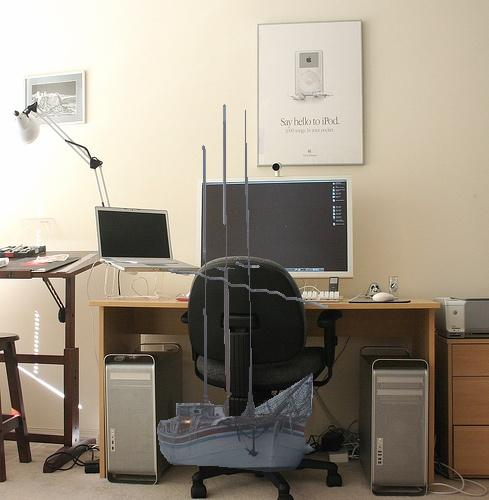tampered: (158, 105, 328, 472)
